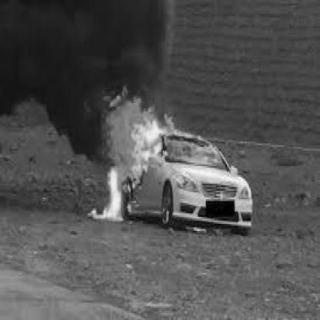Fire: (83, 84, 214, 220)
